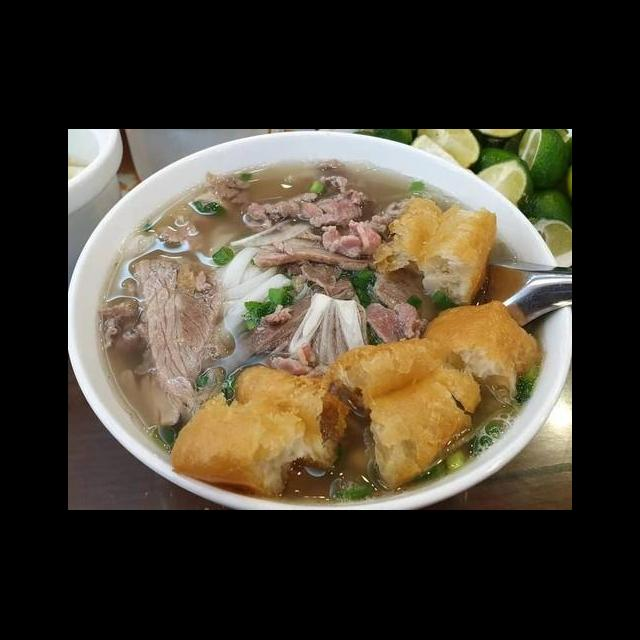banh pho: (213, 244, 296, 342)
pho bo: (76, 149, 572, 510)
thit bo: (217, 268, 373, 391), (133, 258, 233, 420), (239, 168, 376, 235), (250, 214, 374, 274), (320, 198, 412, 262), (367, 250, 449, 318), (118, 346, 183, 430), (96, 294, 151, 364), (362, 298, 431, 352), (201, 168, 256, 215), (155, 218, 203, 246)
